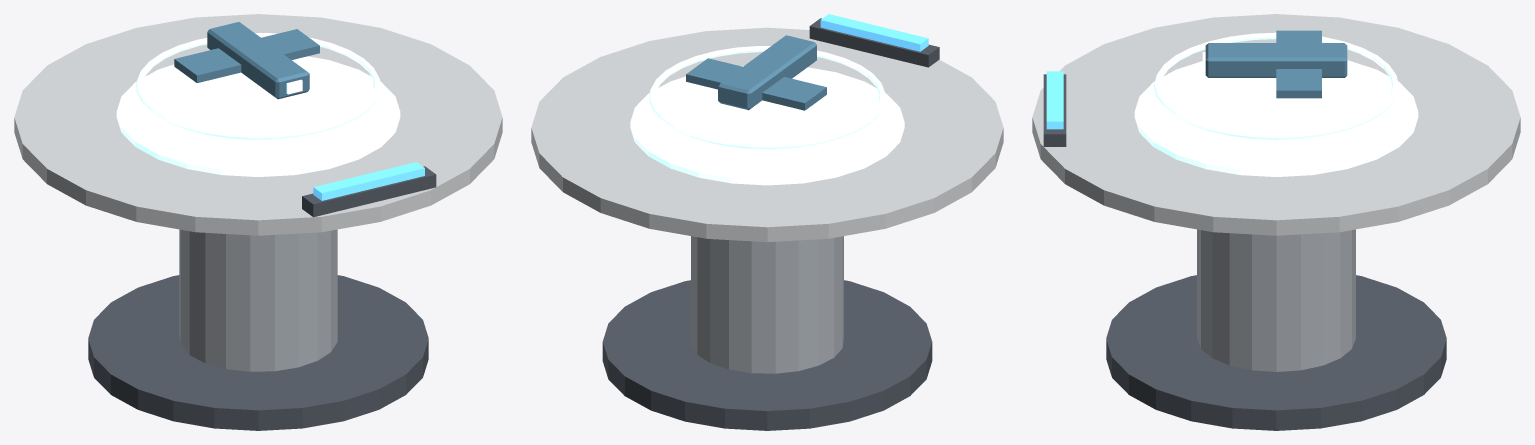
Rendered from spaceship-deck-kit-holo-table-efcc526c__12573.glb.
The picture shows the model from 3 angles, left to right: view 1: azimuth 30°, elevation 25°; view 2: azimuth 150°, elevation 25°; view 3: azimuth 270°, elevation 25°; orthographic projection. The views are drawn at different scales.
Parts seen in each view (by area): view 1: holo-table, hologram/blue, hologram/glow; view 2: holo-table, hologram/blue, hologram/glow; view 3: holo-table, hologram/blue, hologram/glow.
Boxes of the visible parts, x1,y1,x2,y2 form: holo-table: (14,14,502,430); hologram/blue: (174,22,319,99); hologram/glow: (136,33,380,139); holo-table: (531,14,1003,430); hologram/blue: (686,35,826,110); hologram/glow: (649,46,885,149); holo-table: (1032,14,1520,430); hologram/blue: (1205,30,1347,98); hologram/glow: (1154,32,1398,139).
Size of the model in its own units: 1.72 by 1.2 by 1.72.
